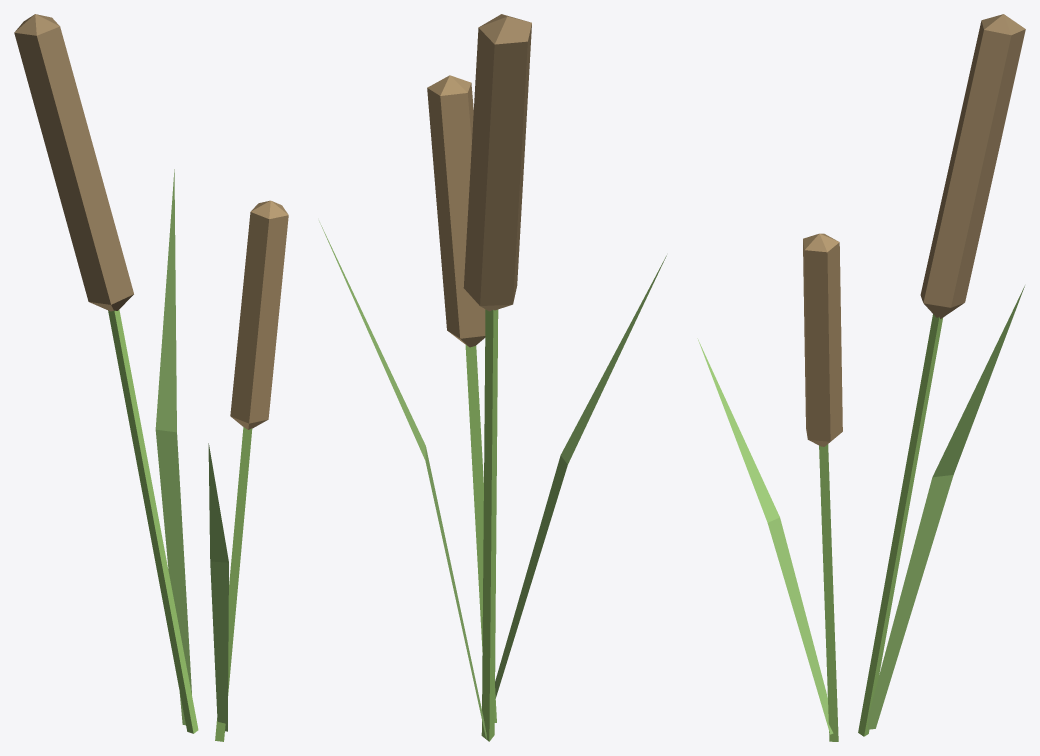
The model's file is Reed_a_05.fbx.
3 views of the same model, side by side, from view 1: azimuth 30°, elevation 25°; view 2: azimuth 150°, elevation 25°; view 3: azimuth 270°, elevation 25° (orthographic). The views are drawn at different scales.
Parts seen in each view (by area): view 1: Reed_a_05; view 2: Reed_a_05; view 3: Reed_a_05.
Part boxes in pixels (left/top/right/bottom): Reed_a_05: left=14, top=14, right=288, bottom=741; Reed_a_05: left=319, top=14, right=666, bottom=741; Reed_a_05: left=697, top=14, right=1025, bottom=741.
Size of the model in its own units: 25.05 by 93.15 by 40.85.
